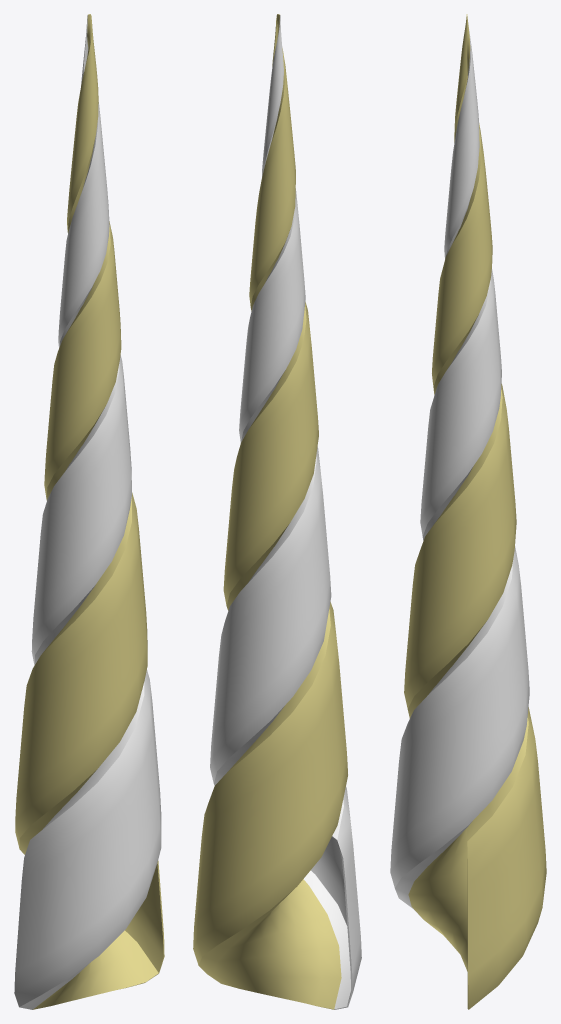
File: unicorn.fbx
3 renders of one model, left to right at view 1: azimuth 30°, elevation 25°; view 2: azimuth 150°, elevation 25°; view 3: azimuth 270°, elevation 25°, orthographic.
Visible parts, largest first — view 1: Cylinder.003; view 2: Cylinder.003; view 3: Cylinder.003.
Boxes of the visible parts, x1,y1,x2,y2 form: Cylinder.003: (14,14,164,1009); Cylinder.003: (193,14,361,1009); Cylinder.003: (390,14,546,1009).
Bounding box in the file's own units: 41.73 × 45.6 × 285.
